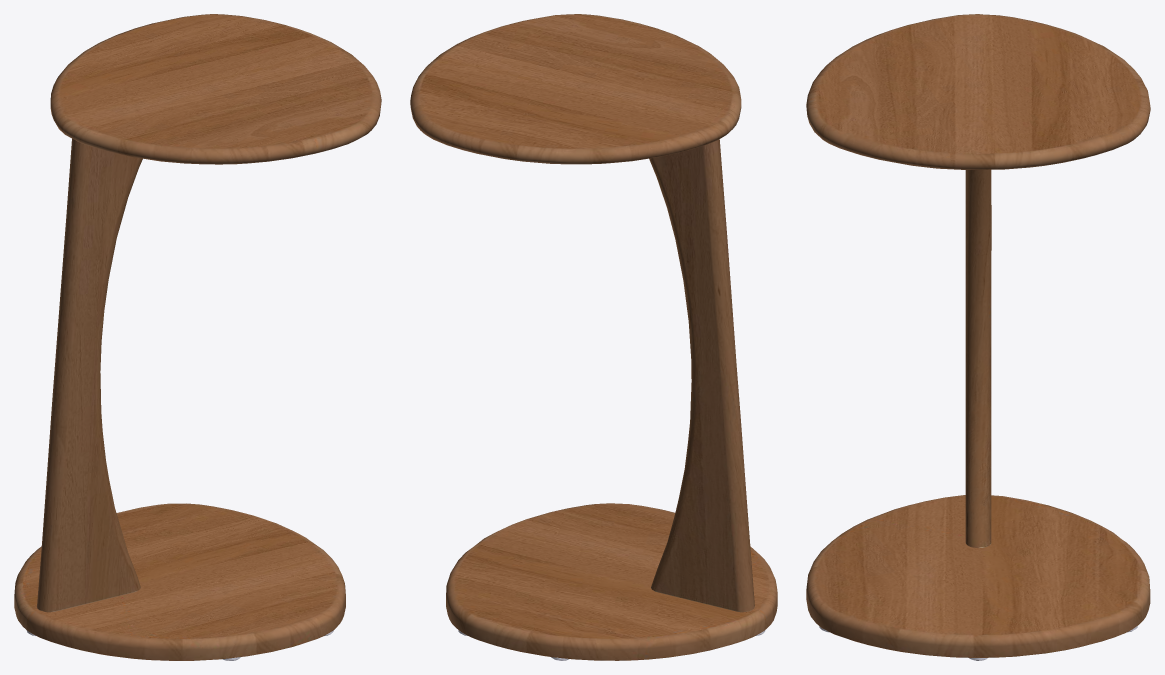
File: ugglerum_stolik_00627983.glb
3 views of the same model, side by side, from view 1: azimuth 30°, elevation 25°; view 2: azimuth 150°, elevation 25°; view 3: azimuth 270°, elevation 25° (orthographic). The views are drawn at different scales.
Visible parts, largest first — view 1: ugglerum_stolik_00627983; view 2: ugglerum_stolik_00627983; view 3: ugglerum_stolik_00627983.
Part boxes in pixels (x1,y1,x2,y2): ugglerum_stolik_00627983: (14,14,381,660); ugglerum_stolik_00627983: (410,14,777,660); ugglerum_stolik_00627983: (806,14,1150,660).
Size of the model in its own units: 0.4539 by 0.6696 by 0.4002.
Materials: 1 (1 with a texture image).
